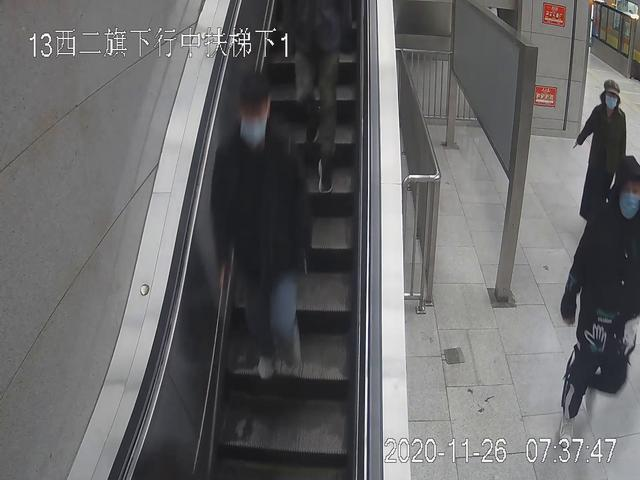person: (211, 74, 312, 379), (558, 156, 640, 442), (574, 78, 627, 244)
